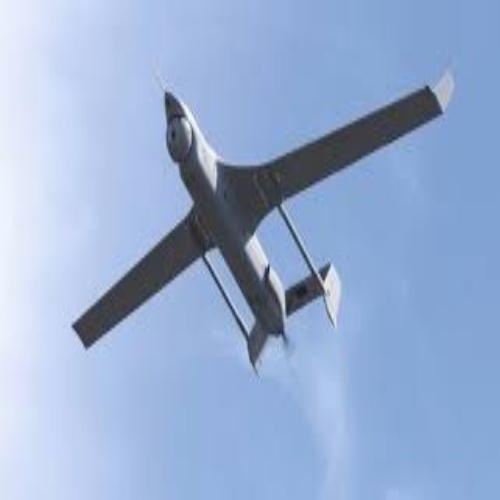uav652: (70, 59, 460, 382)
